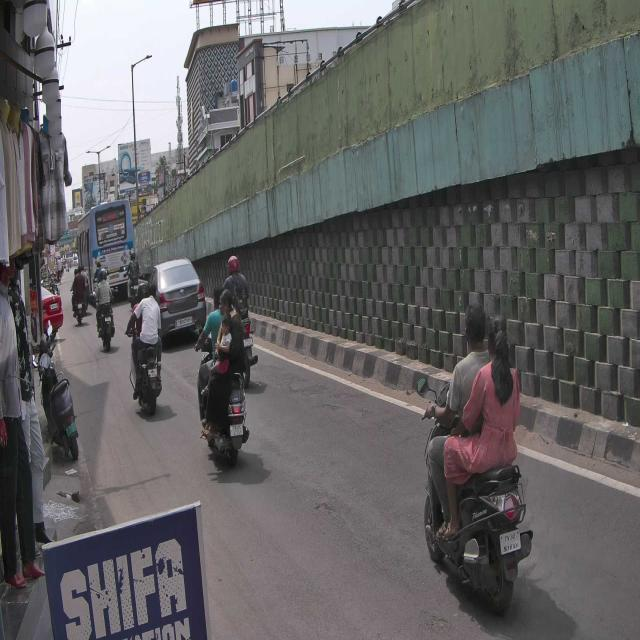double_rider: (417, 296, 534, 614), (187, 281, 252, 466)
